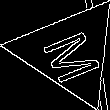M_NE: (34, 20, 104, 83)
